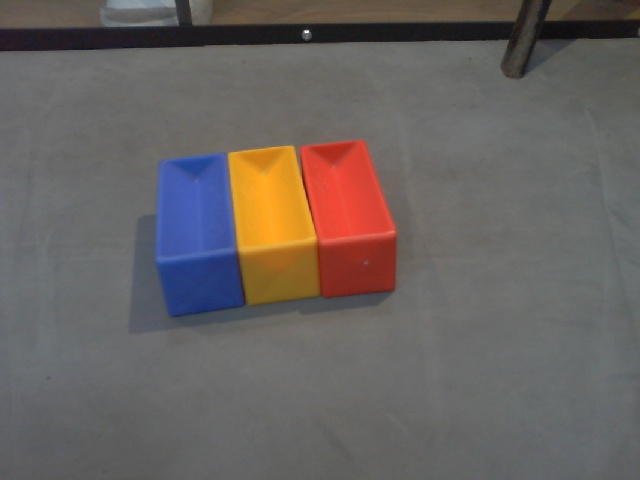BlueSample: (153, 152, 246, 318)
RedSample: (300, 140, 399, 297)
YellowSample: (227, 145, 323, 305)
